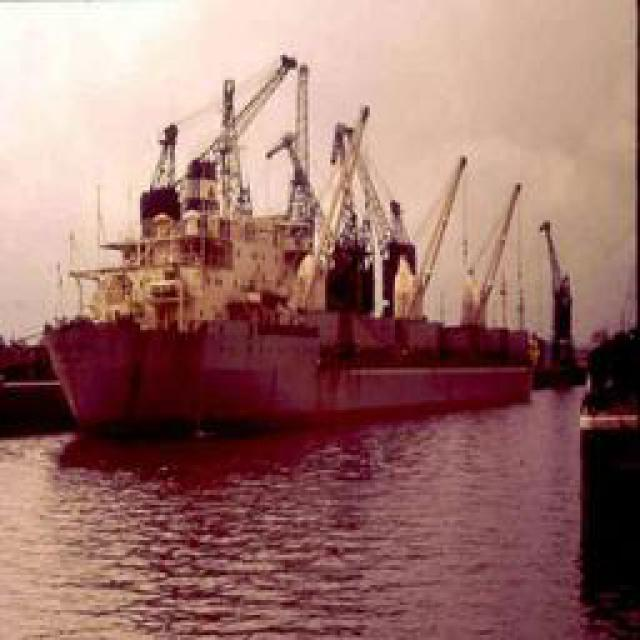Ship: (34, 41, 549, 426)
